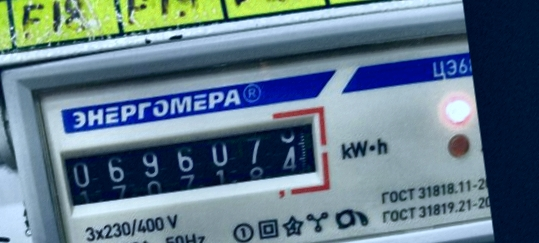0: (67, 157, 91, 190), (207, 136, 229, 168)
4: (275, 143, 298, 173)
6: (101, 152, 127, 184), (172, 142, 195, 173)
7: (241, 132, 262, 164)
9: (138, 148, 159, 179)
screen: (40, 99, 334, 226)
